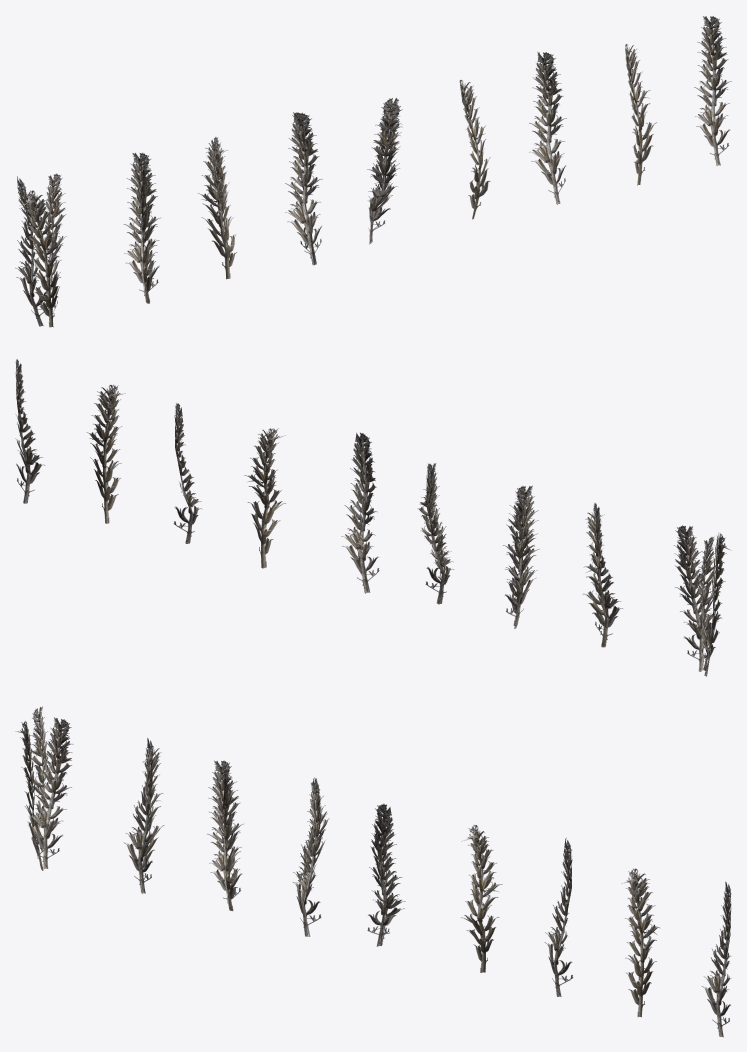
File: weed_2_pbr_free_gpp_collection.glb
3 renders of one model, top to bottom at view 1: azimuth 30°, elevation 25°; view 2: azimuth 150°, elevation 25°; view 3: azimuth 330°, elevation 25°, orthographic. The views are drawn at different scales.
Visible parts, largest first — view 1: Weed plane 2_Material #25_0, Weed plane 4_Material #25_0, Plane009_Material #25_0, Plane017_Material #25_0, Plane012_Material #25_0, Plane015_Material #25_0, Weed plane 3_Material #25_0, Weed plane 1_Material #25_0, Plane013_Material #25_0, Plane020_Material #25_0, Plane014_Material #25_0, Plane018_Material #25_0 (+3 smaller); view 2: Plane013_Material #25_0, Plane018_Material #25_0, Weed plane 3_Material #25_0, Weed plane 1_Material #25_0, Plane016_Material #25_0, Weed plane 4_Material #25_0, Weed plane 2_Material #25_0, Plane020_Material #25_0, Plane009_Material #25_0, Plane011_Material #25_0, Plane012_Material #25_0, Plane010_Material #25_0 (+2 smaller); view 3: Plane018_Material #25_0, Weed plane 3_Material #25_0, Weed plane 1_Material #25_0, Plane013_Material #25_0, Plane016_Material #25_0, Weed plane 4_Material #25_0, Weed plane 2_Material #25_0, Plane012_Material #25_0, Plane010_Material #25_0, Plane015_Material #25_0, Plane009_Material #25_0, Plane020_Material #25_0 (+2 smaller).
Boxes of the visible parts, left/top/right/bottom form: Weed plane 2_Material #25_0: left=529, top=51, right=566, bottom=204; Weed plane 4_Material #25_0: left=694, top=16, right=731, bottom=166; Plane009_Material #25_0: left=285, top=112, right=322, bottom=265; Plane017_Material #25_0: left=20, top=190, right=61, bottom=327; Plane012_Material #25_0: left=123, top=152, right=160, bottom=302; Plane015_Material #25_0: left=198, top=142, right=236, bottom=278; Weed plane 3_Material #25_0: left=625, top=44, right=656, bottom=185; Weed plane 1_Material #25_0: left=459, top=80, right=490, bottom=219; Plane013_Material #25_0: left=367, top=98, right=402, bottom=243; Plane020_Material #25_0: left=15, top=176, right=48, bottom=326; Plane014_Material #25_0: left=368, top=102, right=402, bottom=244; Plane018_Material #25_0: left=43, top=173, right=66, bottom=314; Plane013_Material #25_0: left=341, top=432, right=379, bottom=593; Plane018_Material #25_0: left=673, top=525, right=718, bottom=671; Weed plane 3_Material #25_0: left=87, top=384, right=125, bottom=523; Weed plane 1_Material #25_0: left=244, top=428, right=285, bottom=568; Plane016_Material #25_0: left=503, top=485, right=539, bottom=628; Weed plane 4_Material #25_0: left=15, top=359, right=44, bottom=503; Weed plane 2_Material #25_0: left=173, top=403, right=202, bottom=543; Plane020_Material #25_0: left=697, top=536, right=717, bottom=676; Plane009_Material #25_0: left=425, top=463, right=454, bottom=604; Plane011_Material #25_0: left=582, top=507, right=606, bottom=647; Plane012_Material #25_0: left=593, top=503, right=622, bottom=647; Plane010_Material #25_0: left=417, top=463, right=451, bottom=603; Plane018_Material #25_0: left=28, top=717, right=73, bottom=869; Weed plane 3_Material #25_0: left=621, top=868, right=660, bottom=1017; Weed plane 1_Material #25_0: left=461, top=825, right=502, bottom=972; Plane013_Material #25_0: left=367, top=803, right=405, bottom=945; Plane016_Material #25_0: left=207, top=760, right=243, bottom=909; Weed plane 4_Material #25_0: left=701, top=881, right=731, bottom=1037; Weed plane 2_Material #25_0: left=544, top=838, right=573, bottom=996; Plane012_Material #25_0: left=123, top=738, right=153, bottom=893; Plane010_Material #25_0: left=295, top=778, right=329, bottom=936; Plane015_Material #25_0: left=217, top=767, right=240, bottom=910; Plane009_Material #25_0: left=292, top=777, right=321, bottom=936; Plane020_Material #25_0: left=30, top=706, right=48, bottom=865.
Size of the model in its own units: 393 by 80.36 by 31.33.
Materials: 1 (1 with a texture image).
